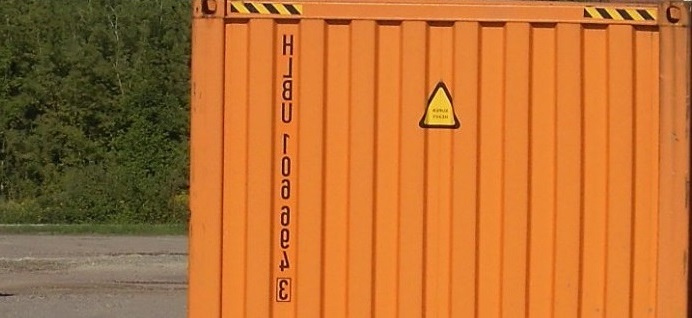container_no_door: (194, 1, 690, 318)
